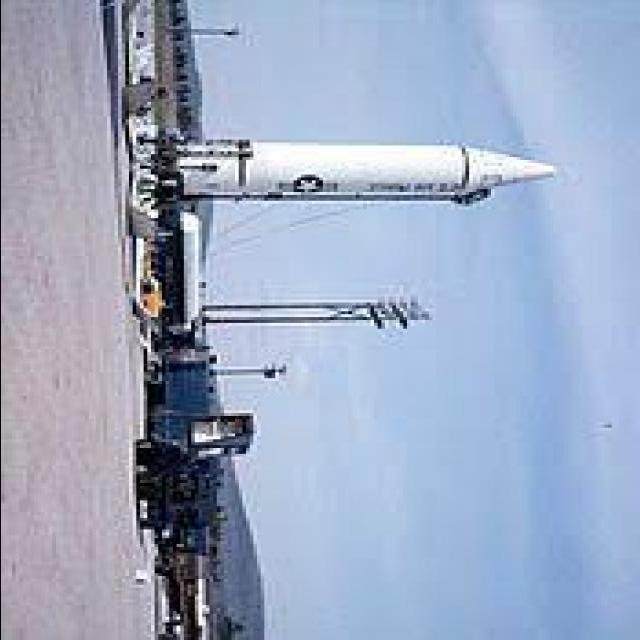missile: (139, 133, 556, 212)
